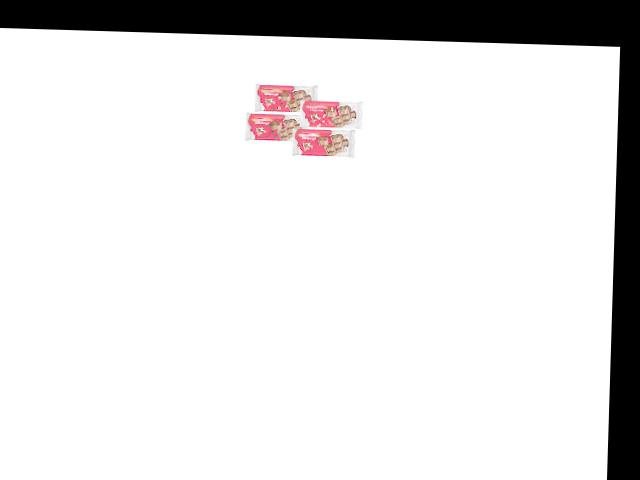chocolate: (249, 80, 321, 118)
